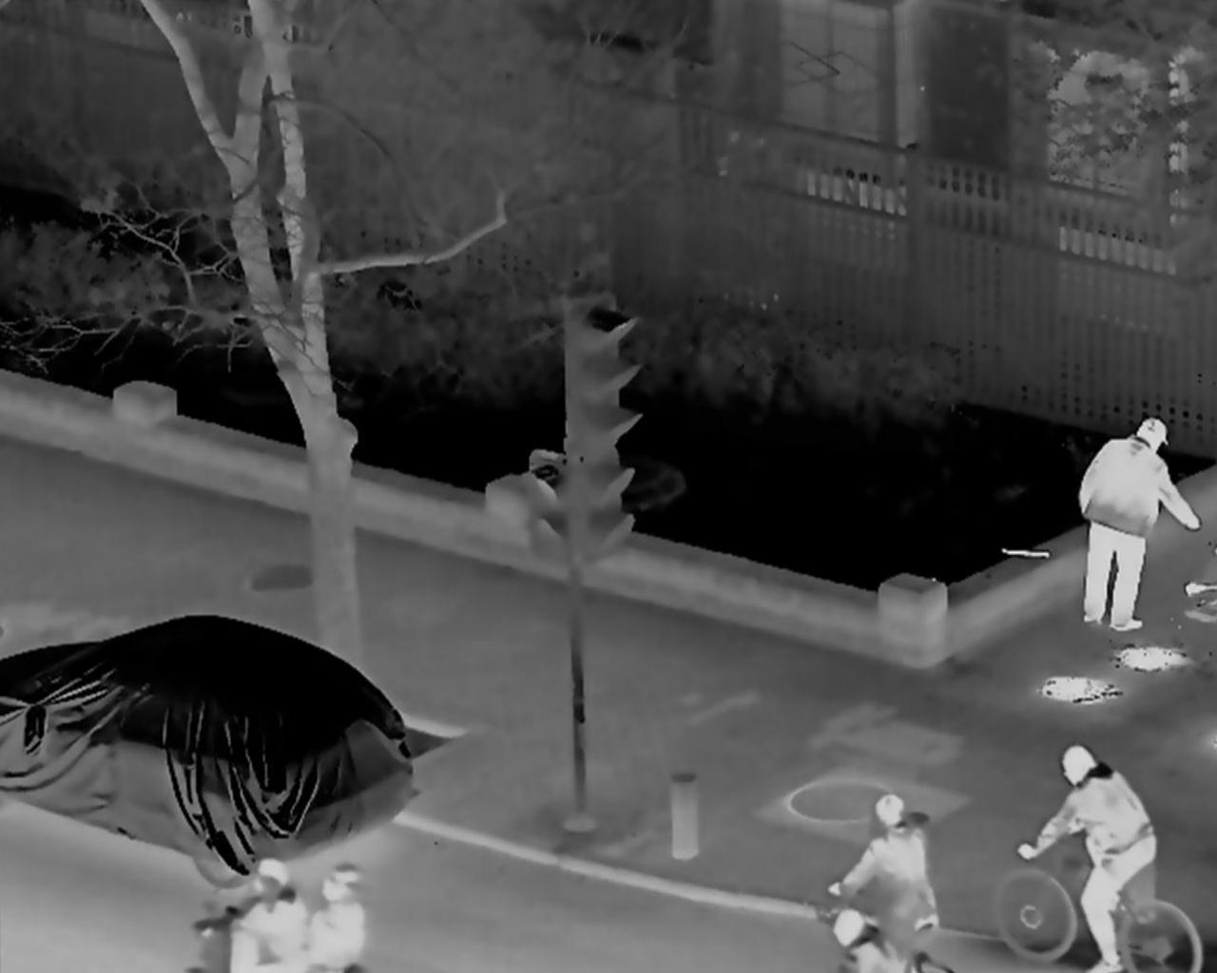person: (1022, 745, 1161, 971), (1080, 416, 1200, 639), (830, 797, 945, 971), (298, 865, 371, 973), (228, 868, 300, 973)
